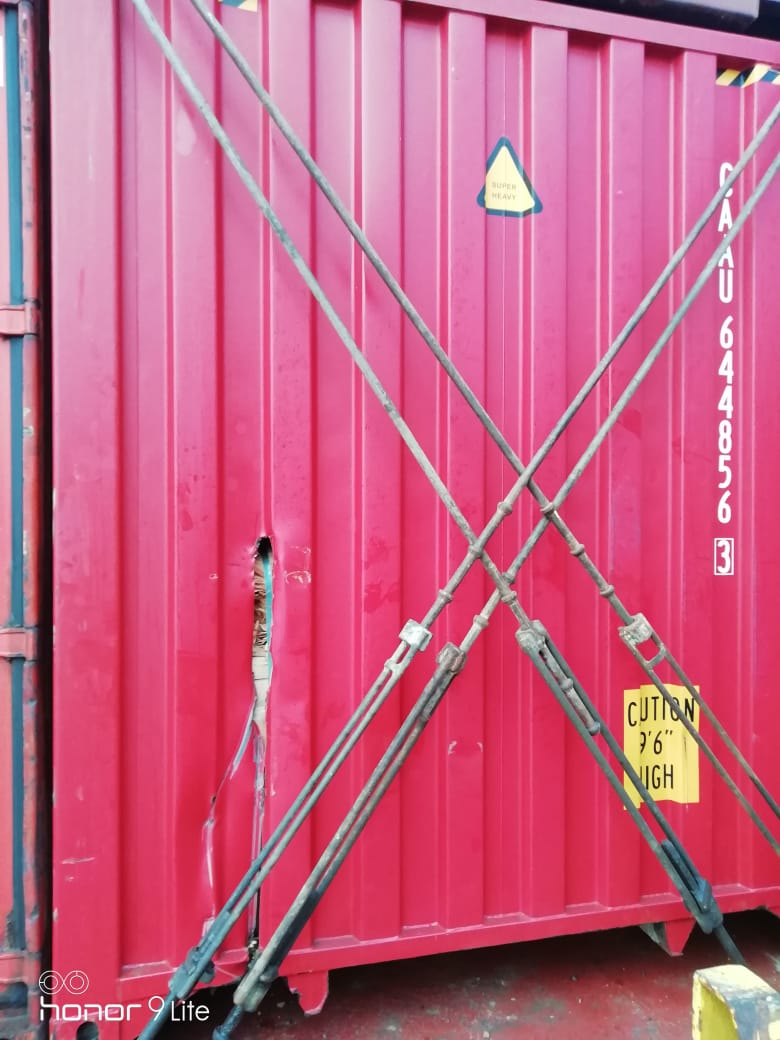cut: (210, 506, 304, 803)
